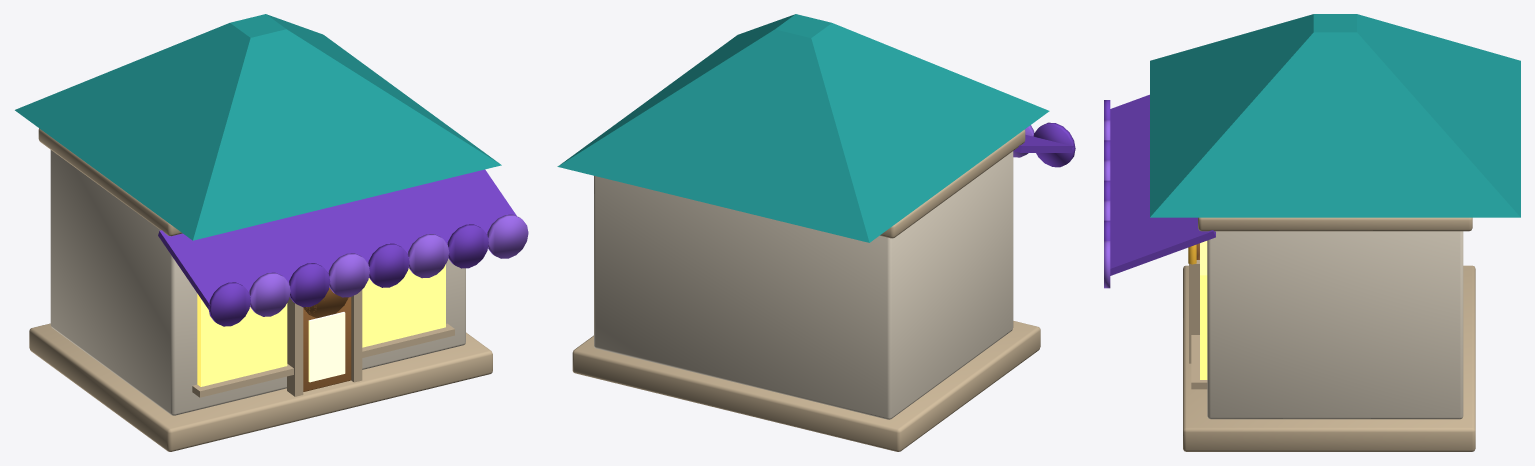
File: magazin_3.glb
3 renders of one model, left to right at view 1: azimuth 30°, elevation 25°; view 2: azimuth 150°, elevation 25°; view 3: azimuth 270°, elevation 25°, orthographic. The views are drawn at different scales.
Parts seen in each view (by area): view 1: Mag.001; view 2: Mag.001; view 3: Mag.001.
Part boxes in pixels (x1,y1,x2,y2): Mag.001: (15,14,528,451); Mag.001: (557,14,1075,451); Mag.001: (1104,14,1520,451).
Size of the model in its own units: 3.2 by 3.14 by 3.42.
